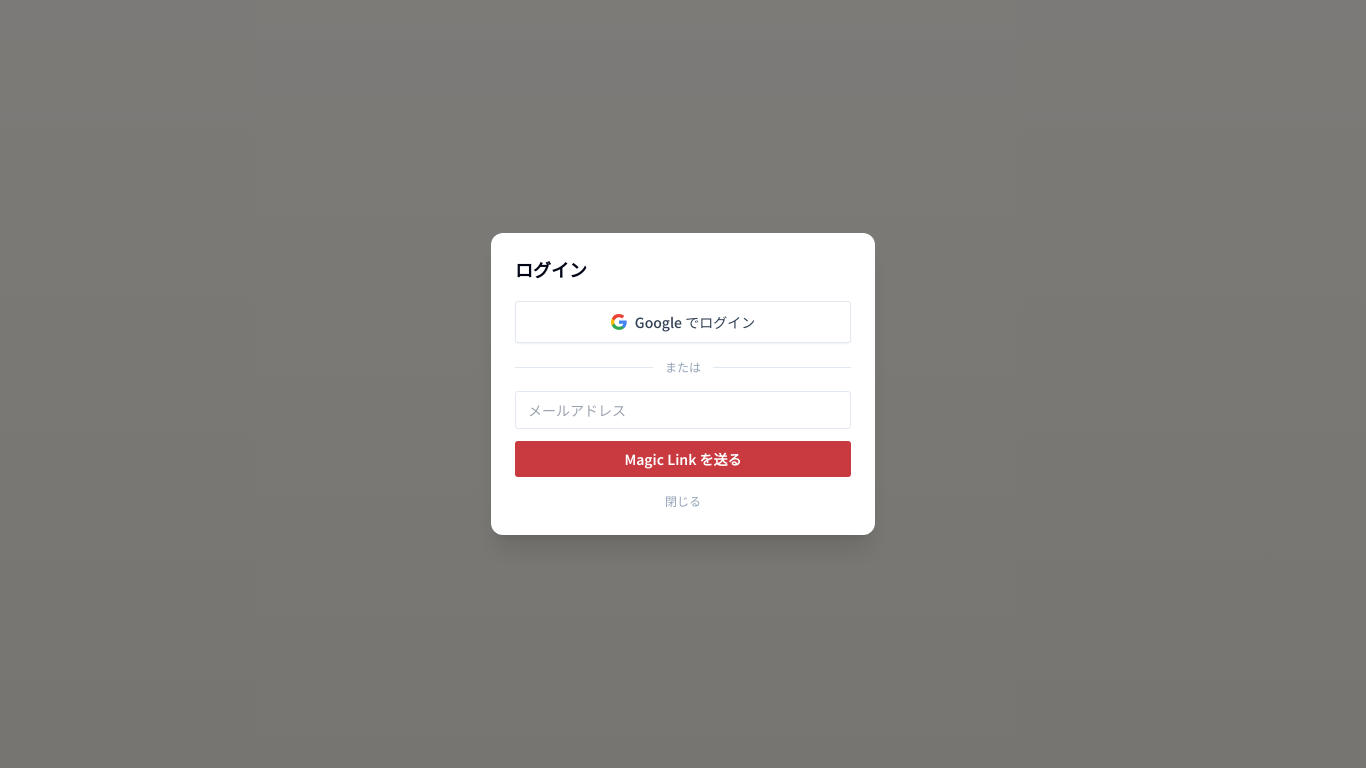
it: AuthModal › shows a retry message for rate limits without exposing account details
Type "first.last@sub.example.com" into the field with placeholder "メールアドレス" at (683,410), box [515,391,851,429]
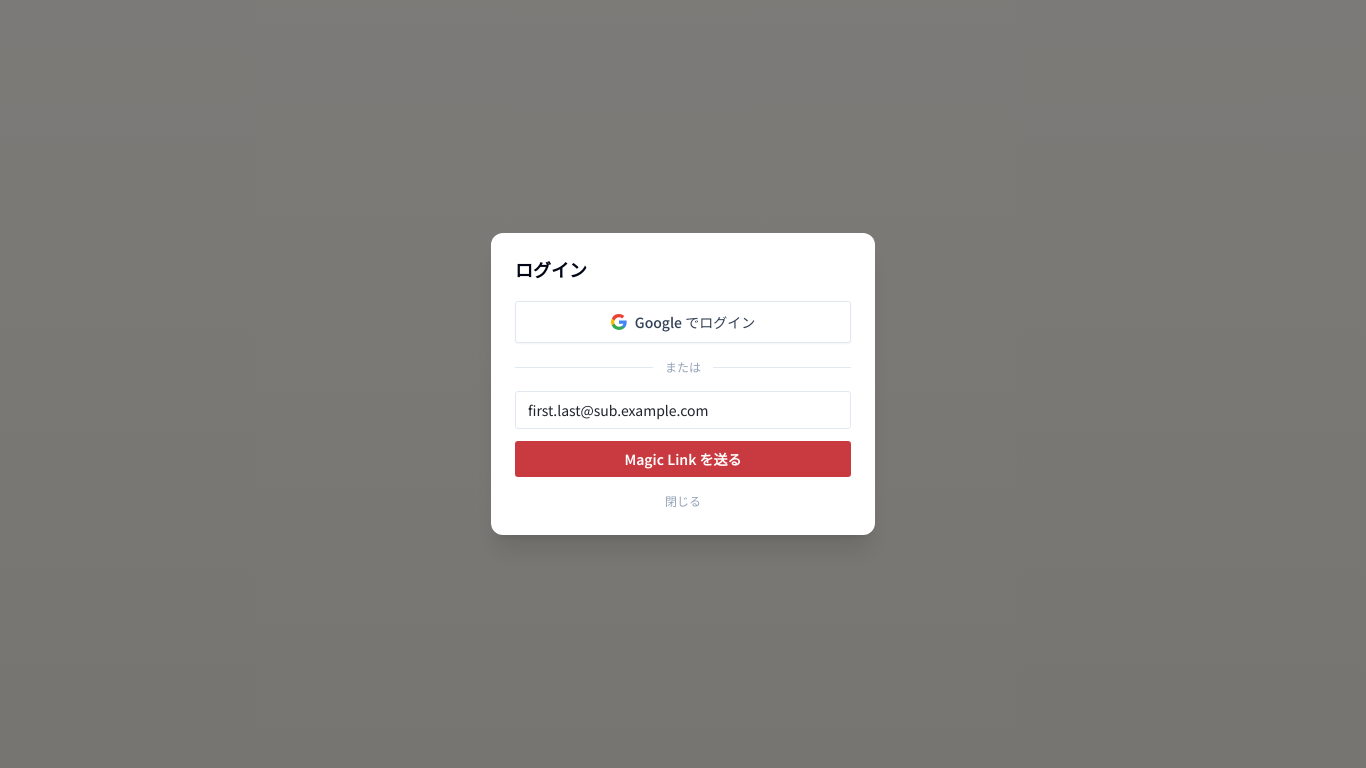
Click the button "Magic Link を送る" at (683,459), box [515,441,851,477]
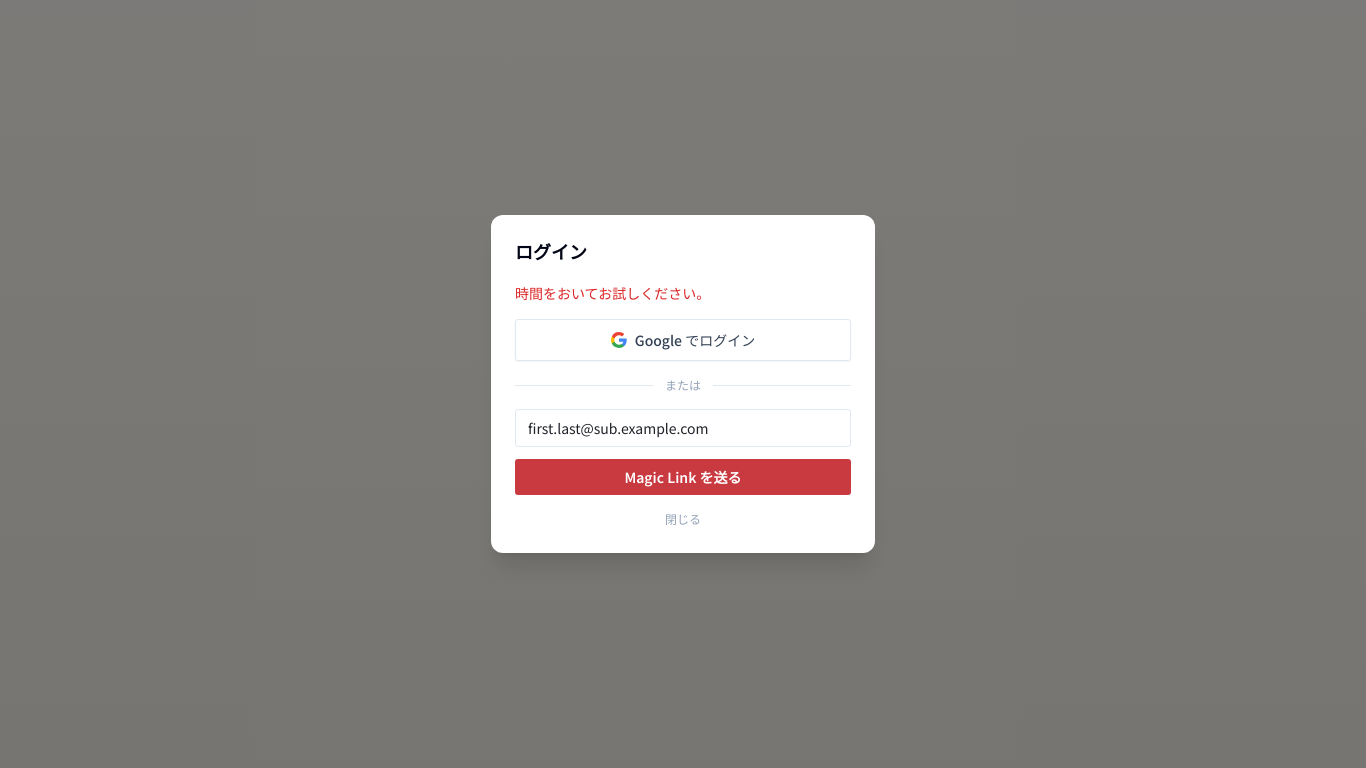
Expected: the text "時間をおいてお試しください。" is shown, [515,283,710,303]
